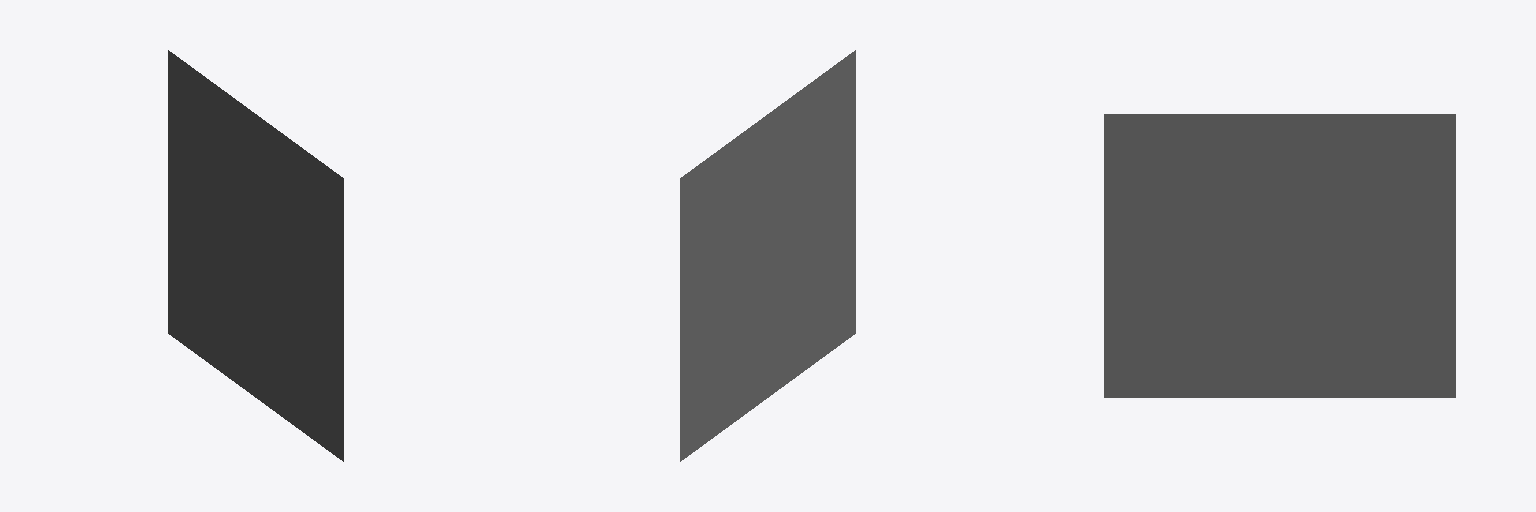
The model's file is plane_bottom.obj.
The picture shows the model from 3 angles: view 1: azimuth 30°, elevation 25°; view 2: azimuth 150°, elevation 25°; view 3: azimuth 270°, elevation 25°; orthographic projection.
Visible parts, largest first — view 1: Mesh_Mesh_Plane.004_Plane.; view 2: Mesh_Mesh_Plane.004_Plane.; view 3: Mesh_Mesh_Plane.004_Plane..
Boxes of the visible parts, x1,y1,x2,y2 form: Mesh_Mesh_Plane.004_Plane.: [168, 50, 343, 461]; Mesh_Mesh_Plane.004_Plane.: [680, 50, 855, 461]; Mesh_Mesh_Plane.004_Plane.: [1104, 114, 1455, 397].
Size of the model in its own units: 0 by 2.45 by 2.75.